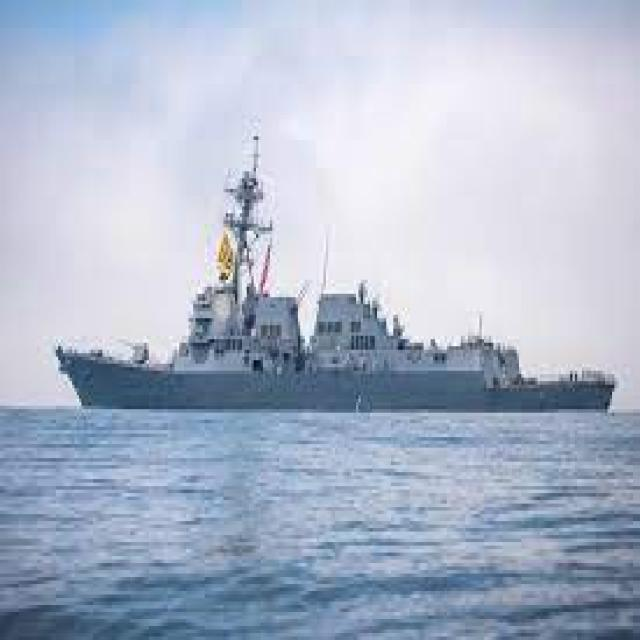navalvessels: (57, 128, 616, 414)
